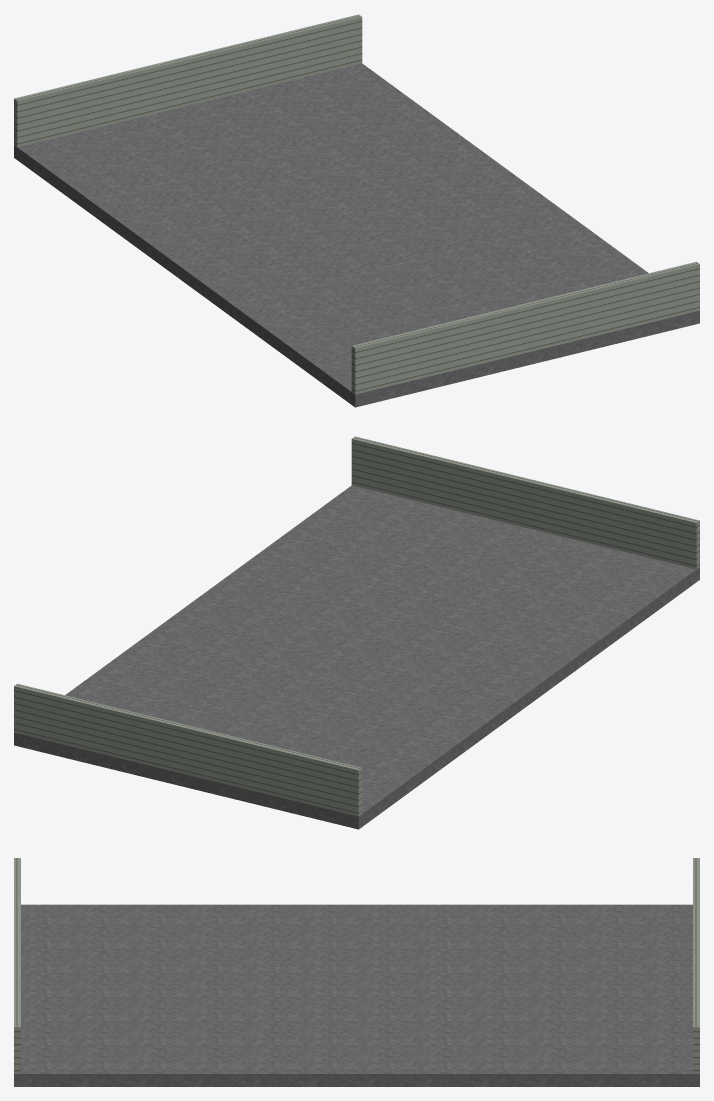
Rendered from bridge_small_downtown_sidestreet.glb.
3 views of the same model, one above another, from view 1: azimuth 30°, elevation 25°; view 2: azimuth 150°, elevation 25°; view 3: azimuth 270°, elevation 25° (orthographic).
Visible parts, largest first — view 1: bridge_small_downtown_sidestreet-col; view 2: bridge_small_downtown_sidestreet-col; view 3: bridge_small_downtown_sidestreet-col.
Boxes of the visible parts, x1,y1,x2,y2 form: bridge_small_downtown_sidestreet-col: (14,14,699,407); bridge_small_downtown_sidestreet-col: (14,436,699,829); bridge_small_downtown_sidestreet-col: (14,858,699,1086).
Bounding box in the file's own units: 7 × 1.15 × 12.
2 materials, 2 textured.
